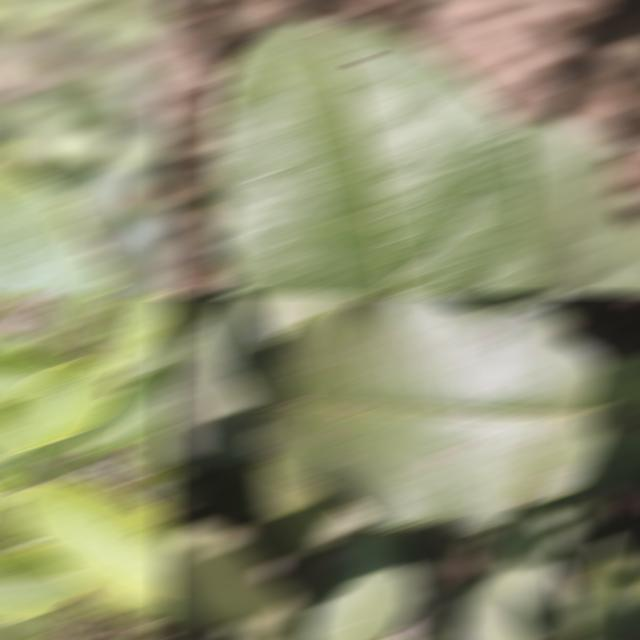Leaf: (203, 20, 540, 292), (245, 296, 609, 527), (513, 119, 640, 292), (16, 485, 172, 602), (166, 296, 276, 461), (160, 522, 306, 638), (0, 147, 113, 292), (452, 507, 565, 638), (302, 524, 412, 638), (0, 362, 117, 461), (0, 362, 117, 460), (74, 365, 172, 448), (257, 462, 335, 563), (566, 538, 638, 638), (593, 352, 640, 482), (0, 551, 89, 619), (94, 296, 172, 372), (69, 167, 140, 233), (112, 218, 172, 274), (118, 323, 172, 384), (0, 353, 66, 401), (46, 296, 108, 347), (76, 589, 163, 619), (160, 304, 195, 363), (125, 439, 172, 477), (22, 607, 69, 638), (160, 470, 191, 507), (0, 510, 35, 542), (132, 471, 172, 498), (0, 622, 45, 637), (149, 428, 172, 443)
